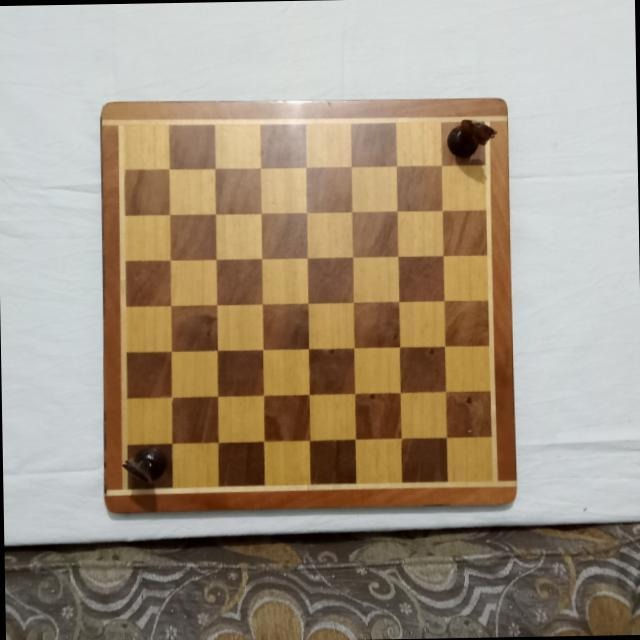black-knight: (445, 117, 498, 162), (119, 445, 169, 484)
